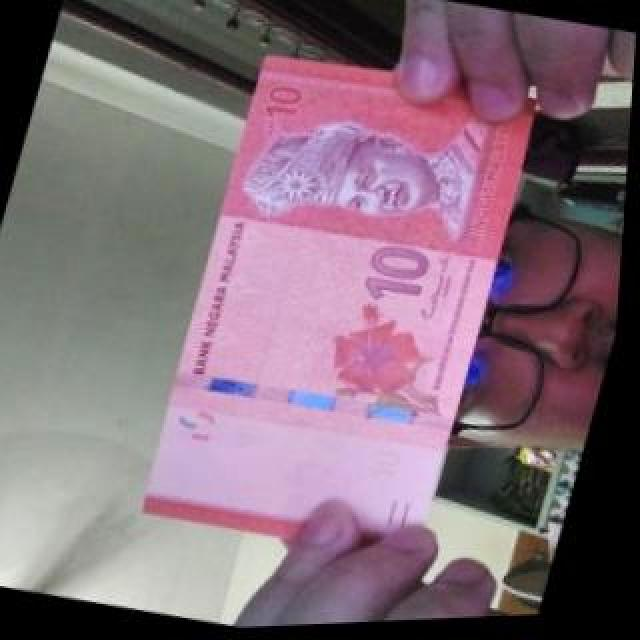10 Ringgit: (140, 38, 554, 579)
